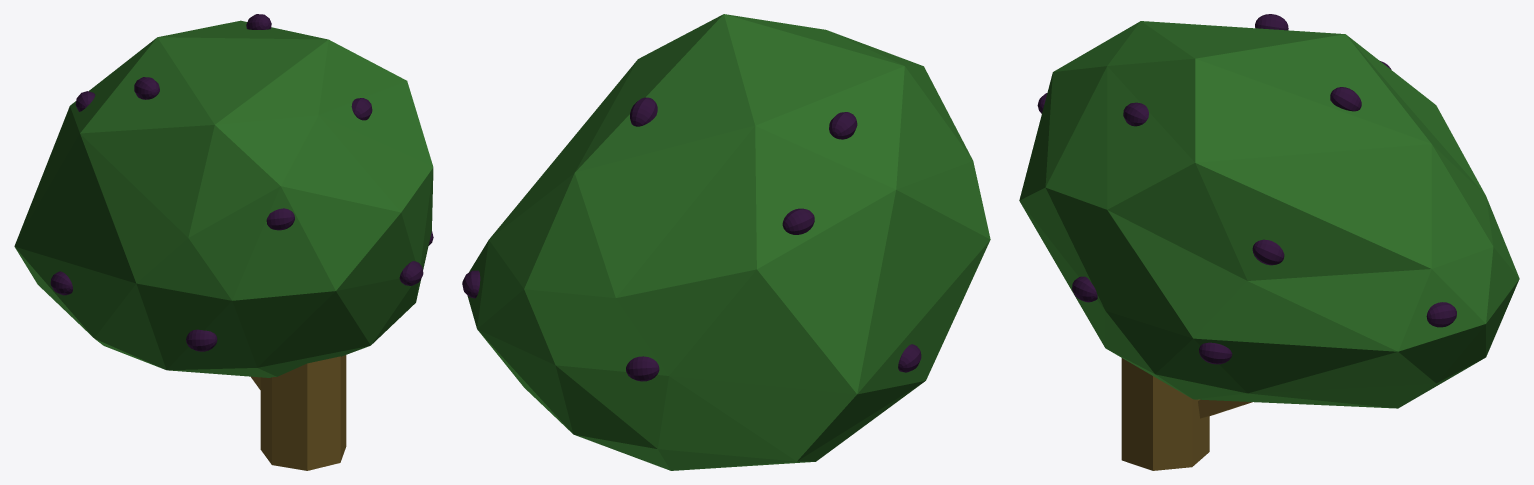
The model's file is kustbarbar2 (1).fbx.
The picture shows the model from 3 angles, left to right: view 1: azimuth 30°, elevation 25°; view 2: azimuth 150°, elevation 25°; view 3: azimuth 270°, elevation 25°; orthographic projection. The views are drawn at different scales.
Parts seen in each view (by area): view 1: Icosphere; view 2: Icosphere; view 3: Icosphere.
Boxes of the visible parts, box(x1,y1,x2,y2) form: Icosphere: box(14, 14, 433, 470); Icosphere: box(462, 14, 990, 470); Icosphere: box(1019, 14, 1519, 470).
Bounding box in the file's own units: 397 × 403 × 442.
